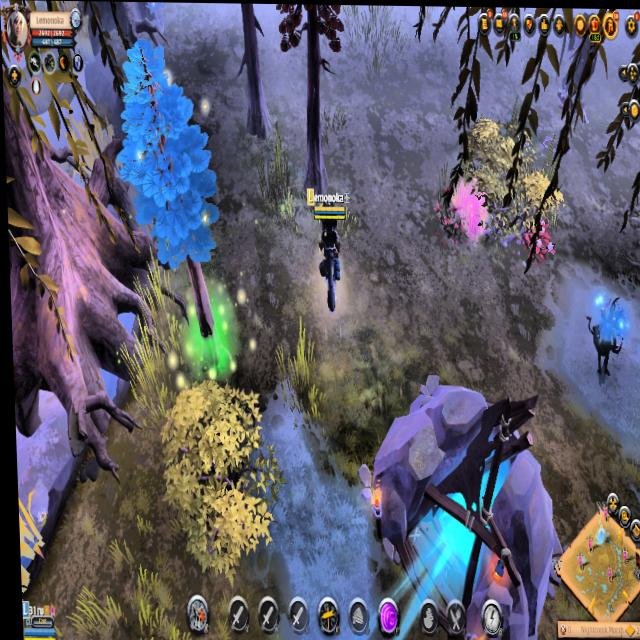wood tier 4: (107, 32, 224, 277)
